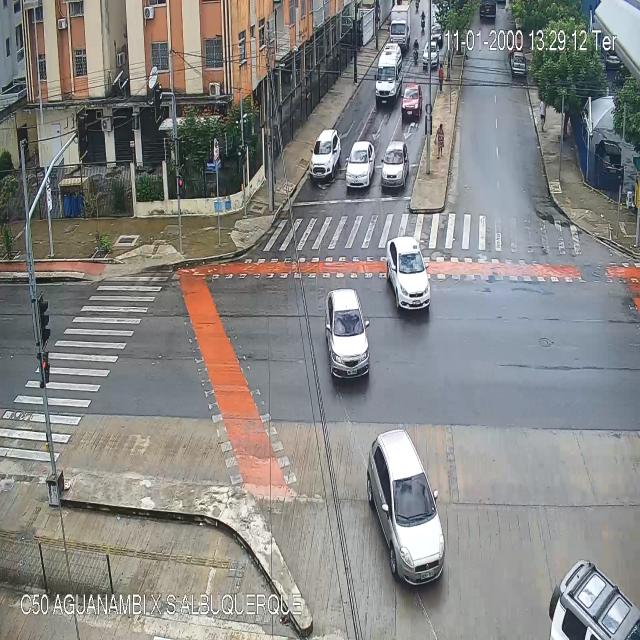Car: (366, 426, 444, 585), (538, 519, 640, 640), (326, 288, 368, 381), (385, 235, 429, 316), (374, 44, 402, 109), (310, 130, 340, 179), (346, 142, 376, 189), (382, 142, 409, 186), (400, 84, 423, 123), (430, 15, 450, 45), (422, 43, 443, 70), (512, 49, 524, 78)
Motorcycle: (414, 37, 419, 65), (421, 11, 426, 32)
Truck: (389, 5, 412, 53)
